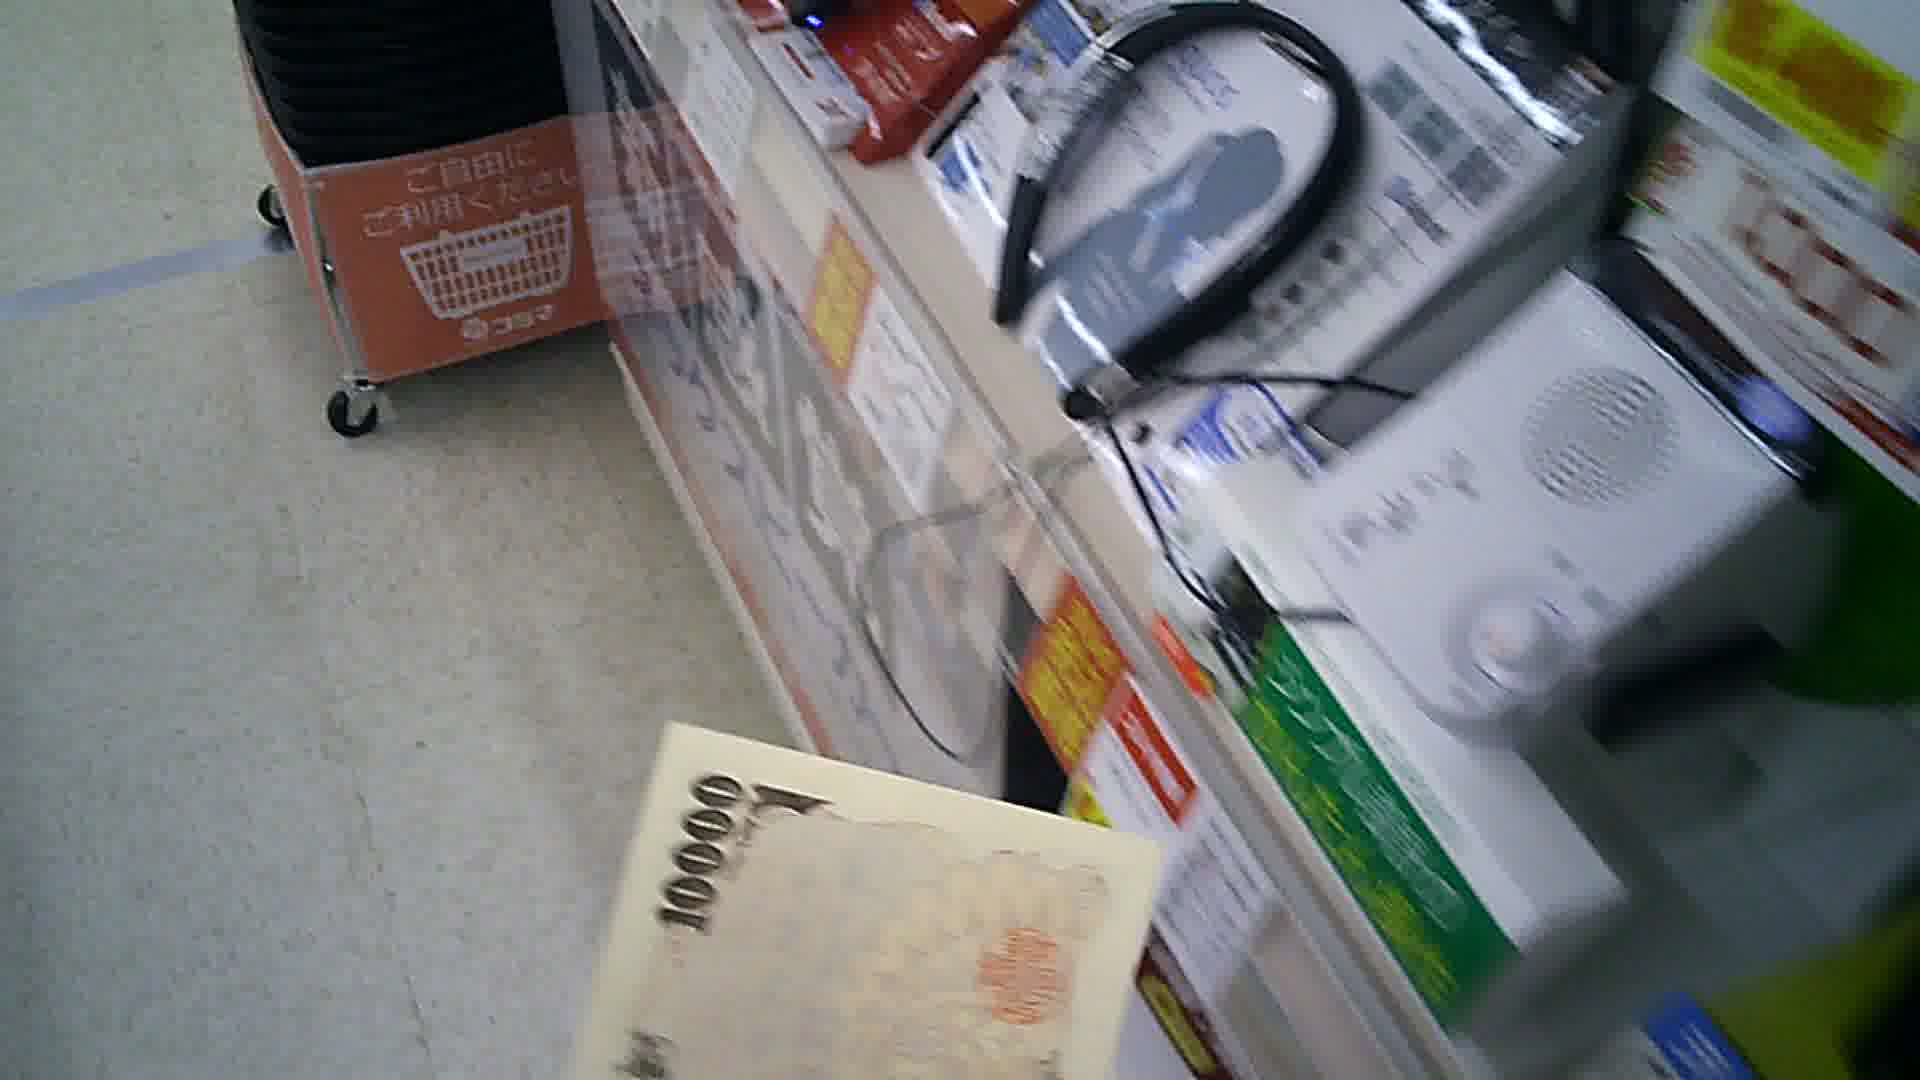10,000 Yen: (555, 711, 1160, 1079)
